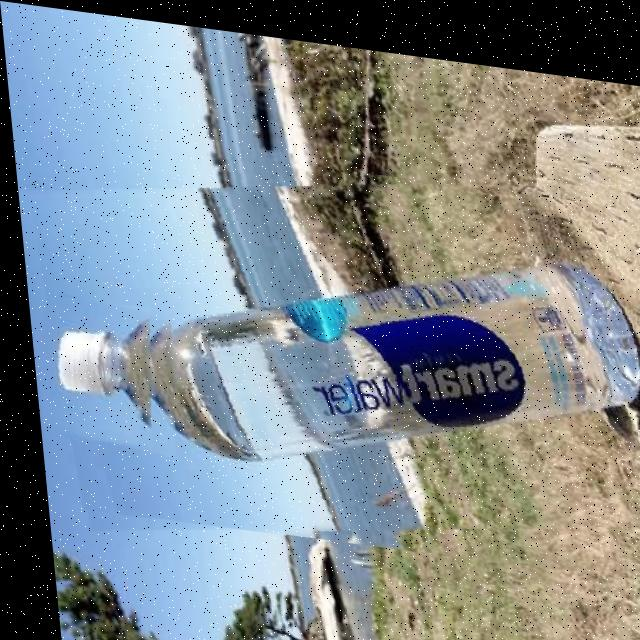plasticbottle: (13, 125, 640, 571)
plasticbottlecap: (25, 291, 155, 450)
